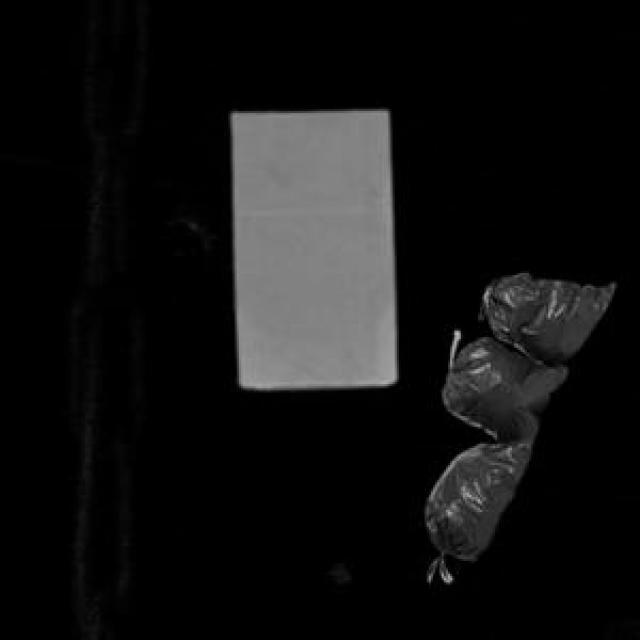miscellaneous trash: (422, 269, 610, 557)
paper: (229, 107, 393, 384)
